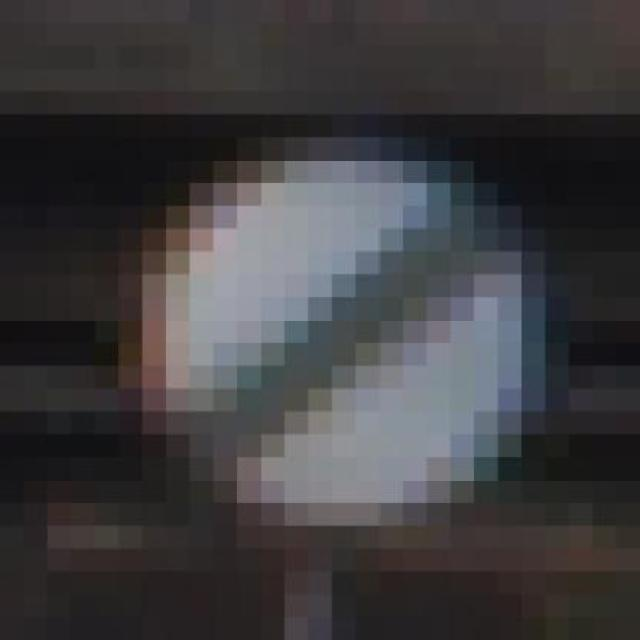End of all speed and passing limits: (118, 137, 570, 572)
